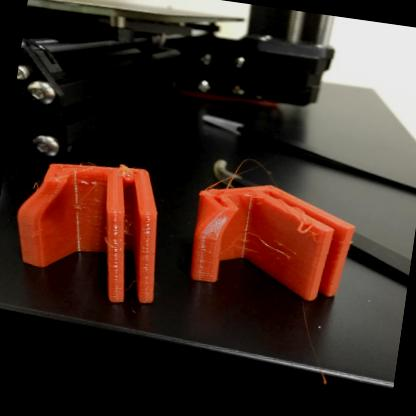fail: (226, 228, 301, 265), (117, 197, 144, 244)
